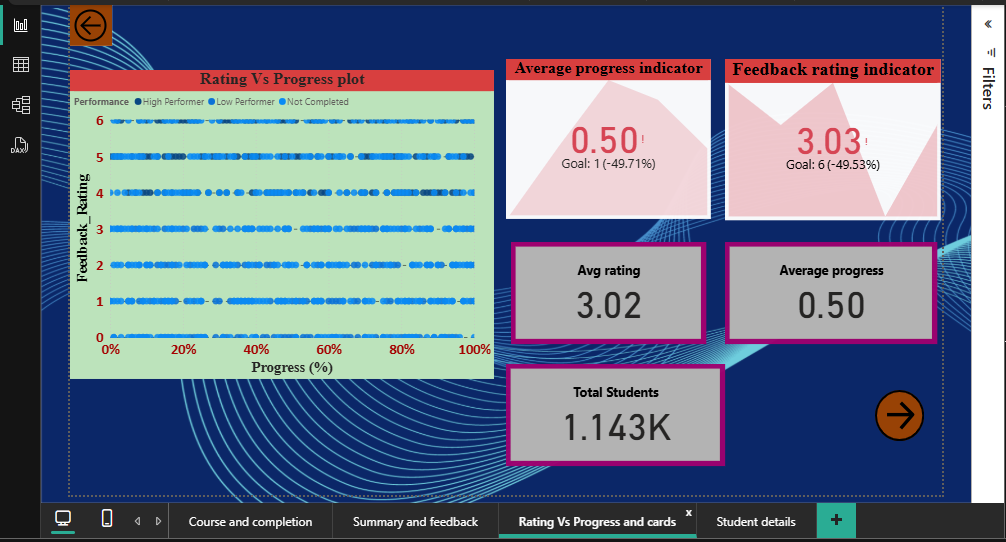

What the dashboard file says about the page in this screenshot:
{"tool":"powerbi","page":{"name":"Rating Vs Progress and cards","canvas":[1280,720],"ordinal":2},"visuals":[{"type":"kpi","title":"Average progress indicator","fields":{"Indicator":["Table1.average of progress"],"TrendLine":["Table1.Course_Category"],"Goal":["Table1.Max progress"]},"box":[640.7,79.3,301.2,235.1],"z":0},{"type":"scatterChart","title":"Rating Vs Progress plot","fields":{"Series":["Table1.Column1"],"Y":["Table1.Feedback_Rating"],"X":["Table1.Progress (%)"]},"box":[0,95.5,623,454],"z":1000},{"type":"kpi","title":"Feedback rating indicator","fields":{"Indicator":["Table1.Avg rating"],"Goal":["Table1.Max rate"],"TrendLine":["Table1.Course_Category"]},"box":[962.4,79.3,317.4,236.6],"z":2000},{"type":"actionButton","box":[1182.7,565.3,72.3,75.2],"z":3000},{"type":"actionButton","box":[0,0,61.7,60.2],"z":4000},{"type":"cardVisual","fields":{"Data":["Table1.Avg rating"]},"box":[648,348.2,286.5,149.9],"z":5000},{"type":"cardVisual","fields":{"Data":["Table1.Average progress"]},"box":[962.4,348.2,311.5,149.9],"z":6000},{"type":"cardVisual","fields":{"Data":["Table1.Total Students"]},"box":[640.7,527.5,321.8,149.9],"z":7000}]}

Visuals, with their boxes on the page's 1280x720 design canvas (x1, y1, x2, y2). These are canvas units, not pixel positions in the 1006x542 screenshot, which may show the page scaled, cropped or inside an application window:
"Average progress indicator" kpi: 641 79 942 314
"Rating Vs Progress plot" scatterChart: 0 96 623 550
"Feedback rating indicator" kpi: 962 79 1280 316
actionButton: 1183 565 1255 640
actionButton: 0 0 62 60
cardVisual - Table1.Avg rating: 648 348 934 498
cardVisual - Table1.Average progress: 962 348 1274 498
cardVisual - Table1.Total Students: 641 528 962 677
